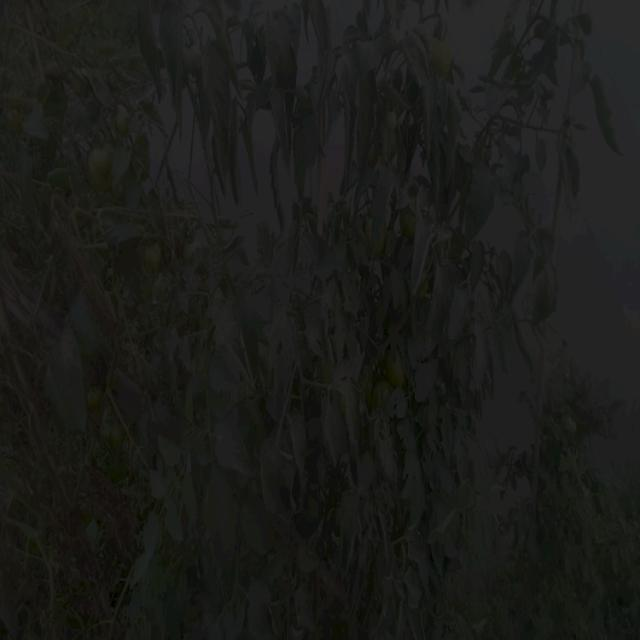tomato: (425, 35, 459, 77), (264, 20, 299, 57), (91, 142, 114, 191), (386, 354, 408, 392), (180, 37, 203, 73), (395, 209, 420, 239), (143, 241, 165, 271), (86, 380, 104, 407), (101, 414, 121, 435), (382, 104, 397, 131), (566, 414, 582, 433)
